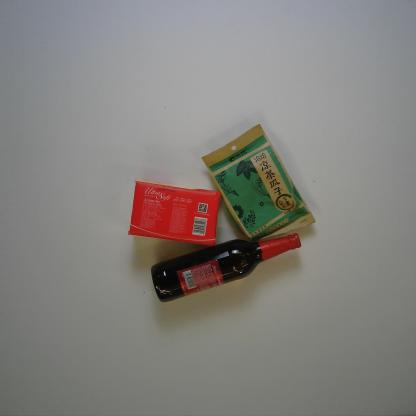Alcohol: (150, 233, 302, 303)
Dried Food: (200, 122, 316, 242)
Tissue: (127, 179, 222, 247)
